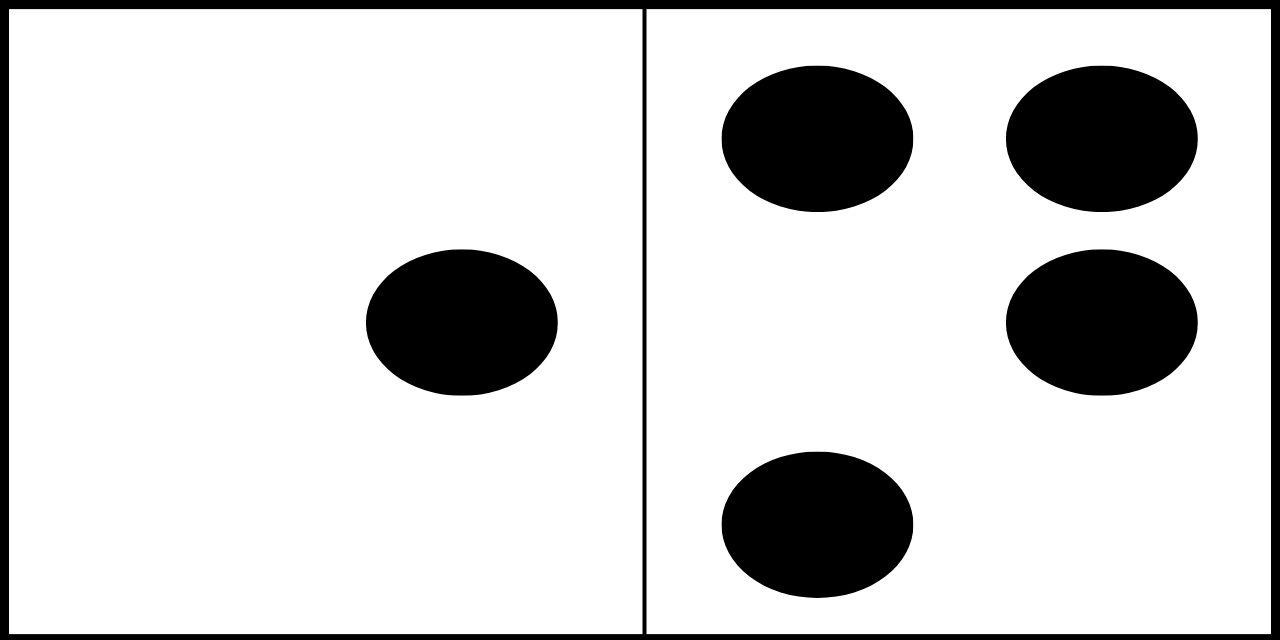dot_5: (93, 66, 560, 600)
noon: (720, 65, 1201, 598)
